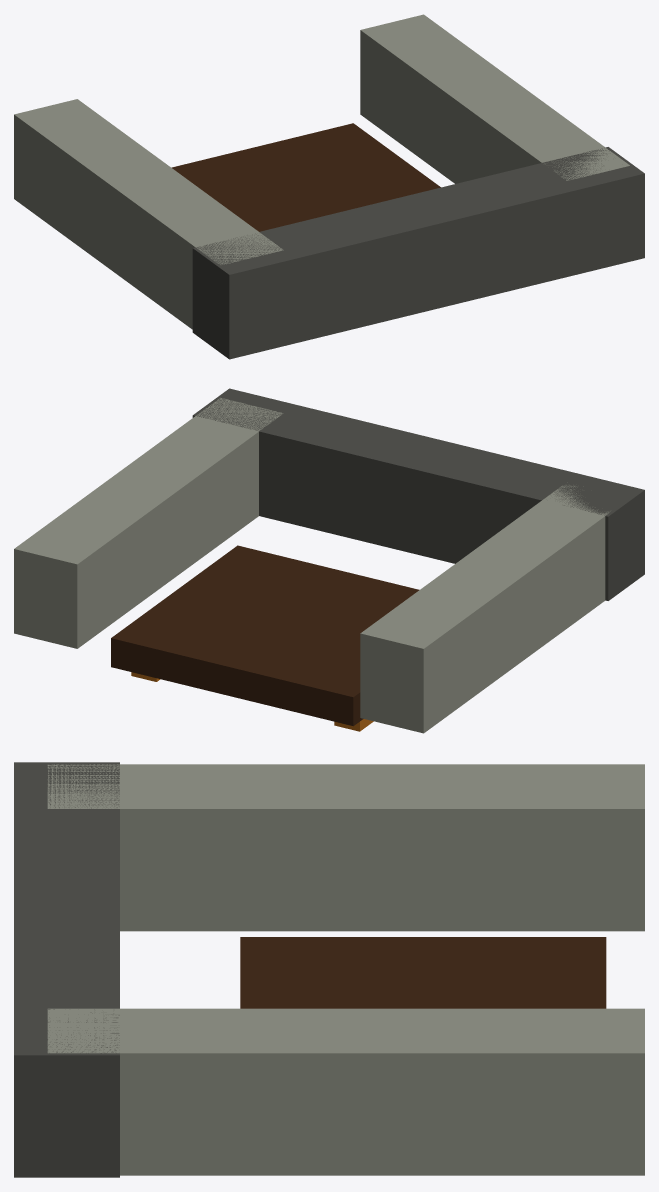
File: SM_RivLibraryArcade.obj
3 views of the same model, one above another, from view 1: azimuth 30°, elevation 25°; view 2: azimuth 150°, elevation 25°; view 3: azimuth 270°, elevation 25° (orthographic). The views are drawn at different scales.
Visible parts, largest first — view 1: SM_RivLibraryArcade; view 2: SM_RivLibraryArcade; view 3: SM_RivLibraryArcade.
Boxes of the visible parts, box(x1,y1,x2,y2) form: SM_RivLibraryArcade: box(14, 14, 644, 359); SM_RivLibraryArcade: box(14, 388, 644, 733); SM_RivLibraryArcade: box(14, 762, 644, 1177).
Size of the model in its own units: 360 by 103 by 328.
